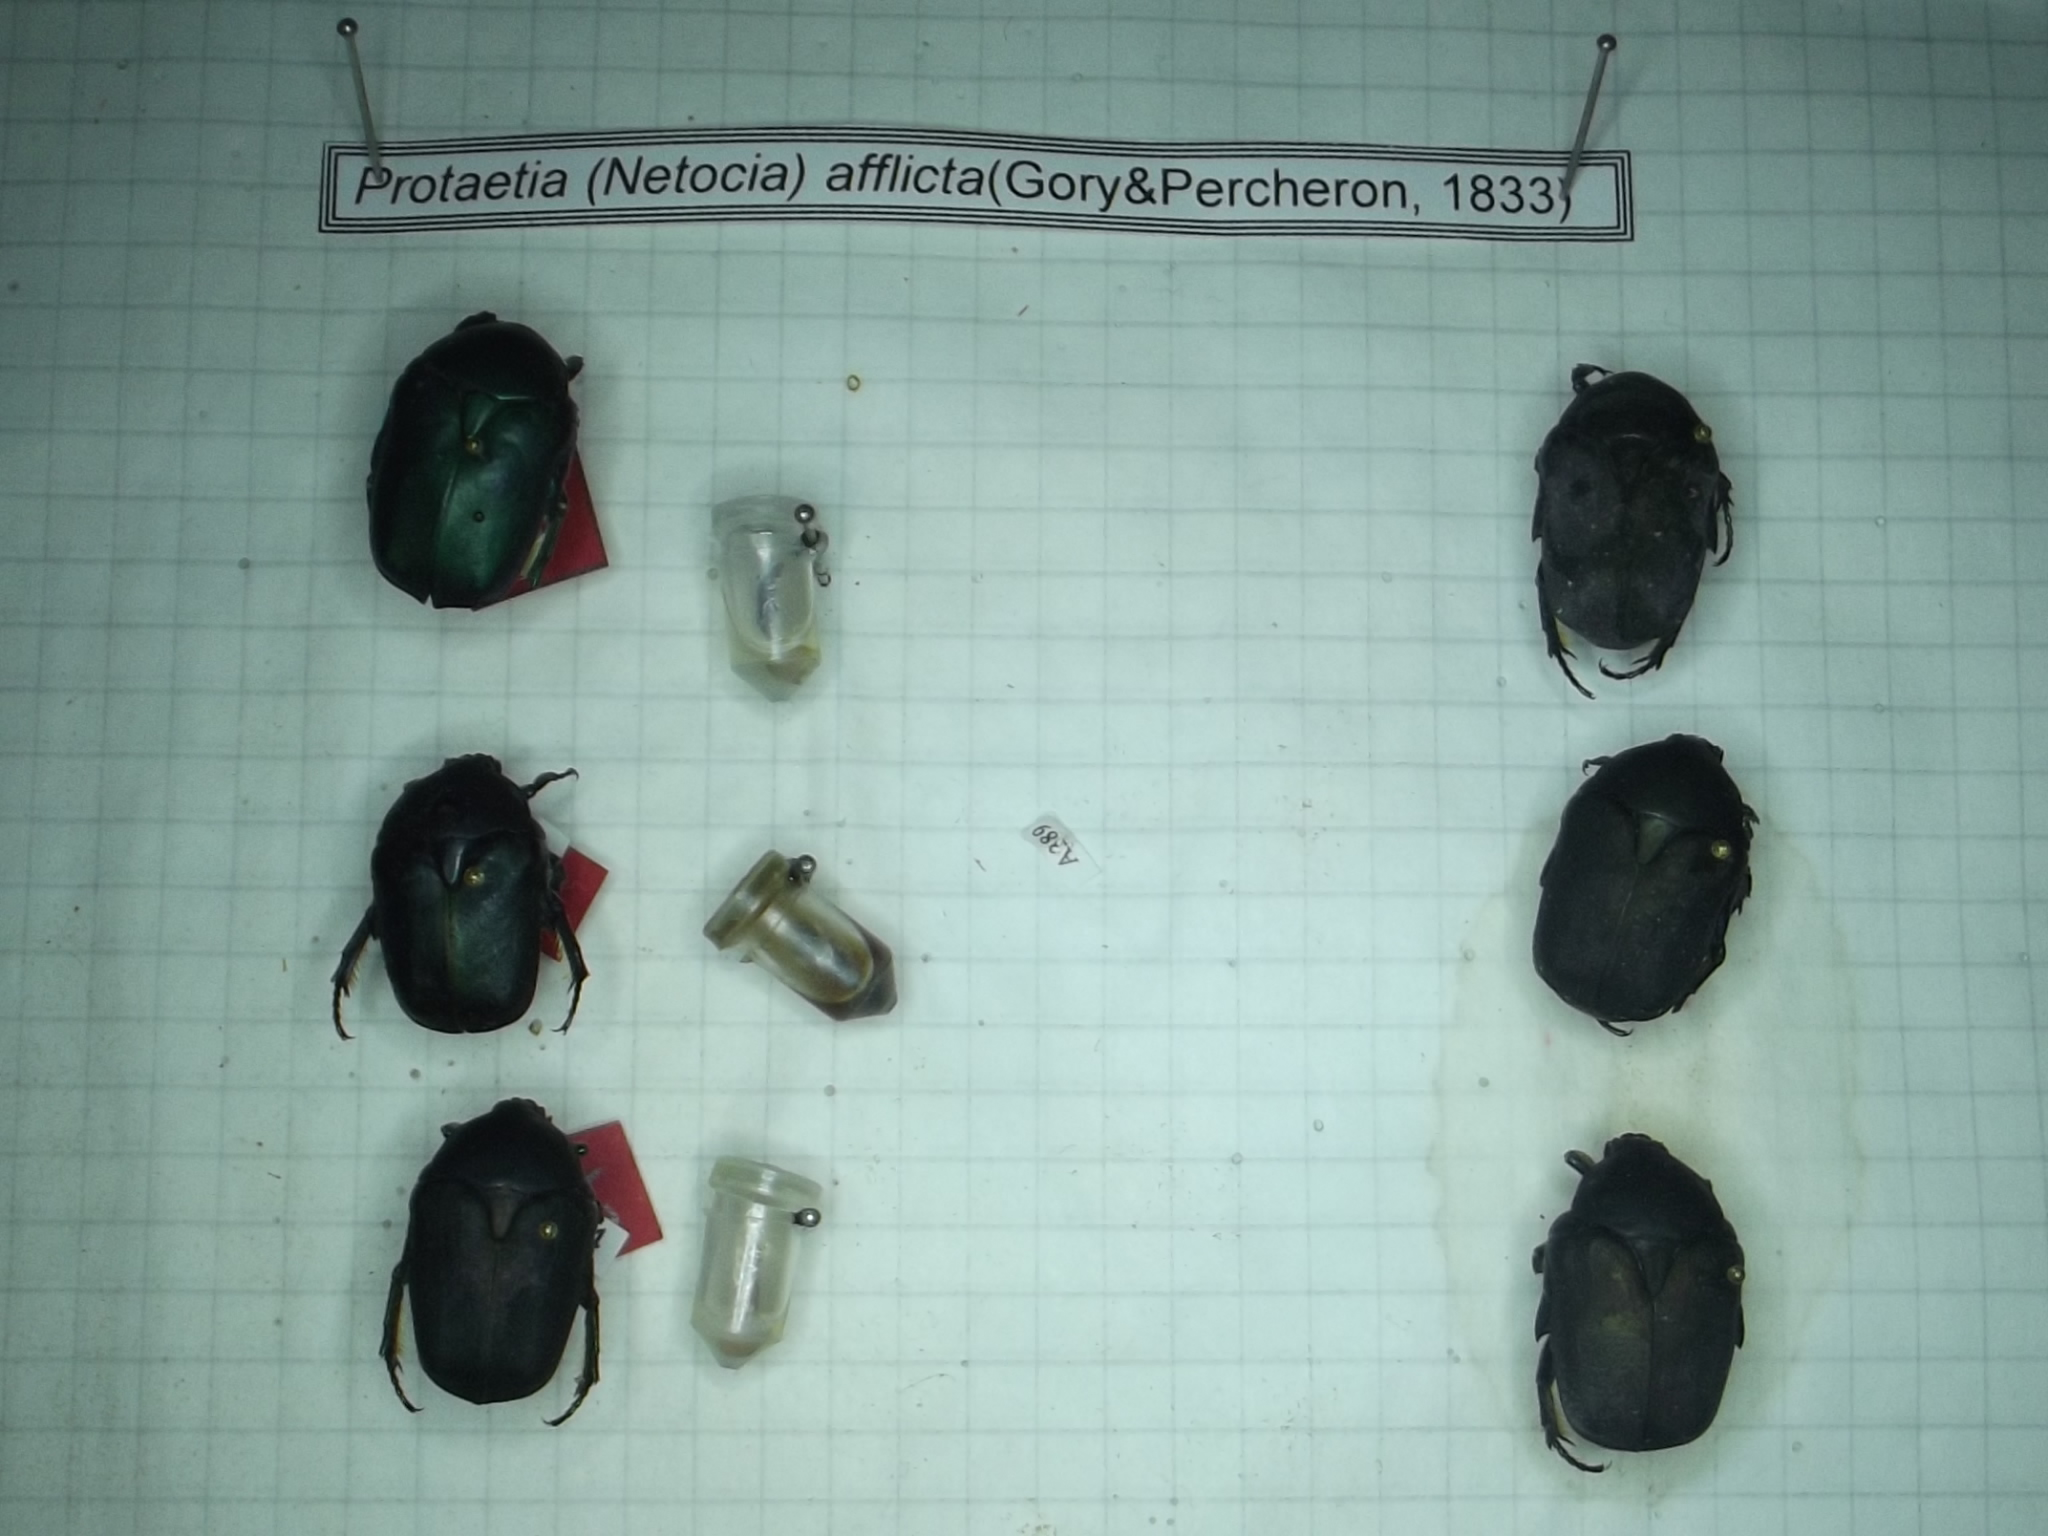Protaetia_afflicta: (297, 721, 619, 1070), (347, 1089, 618, 1450), (329, 284, 608, 620), (1513, 1115, 1759, 1491), (1513, 715, 1771, 1039), (1521, 337, 1738, 718)
